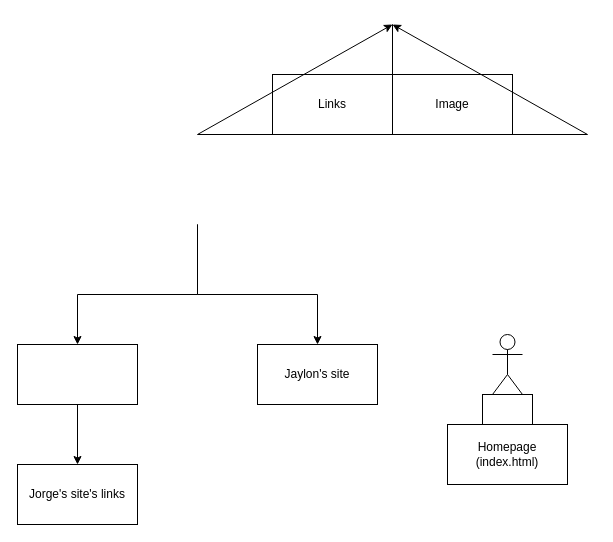
Image size: 613x542. Some labels were removed from this diagram. Here are the shapes that lost their labels. From the top down, the centre of each, then its label:
At [77,374]: "Jorge's site".
At [507,364]: "Bob".
